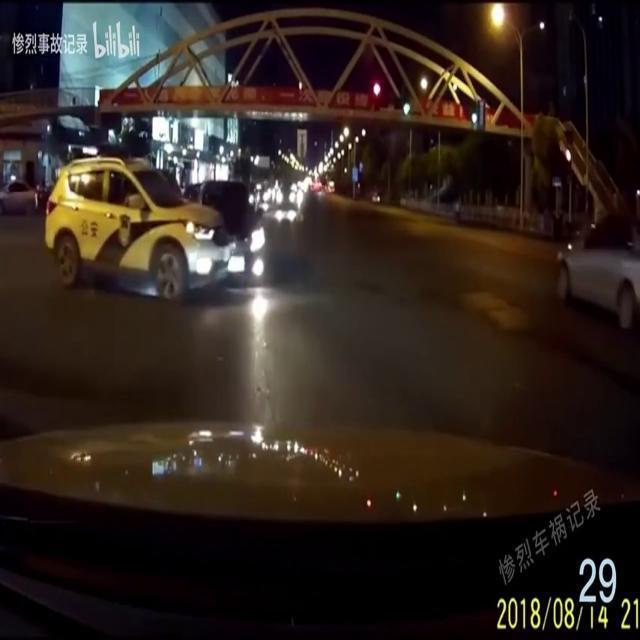accident: (45, 151, 271, 303)
